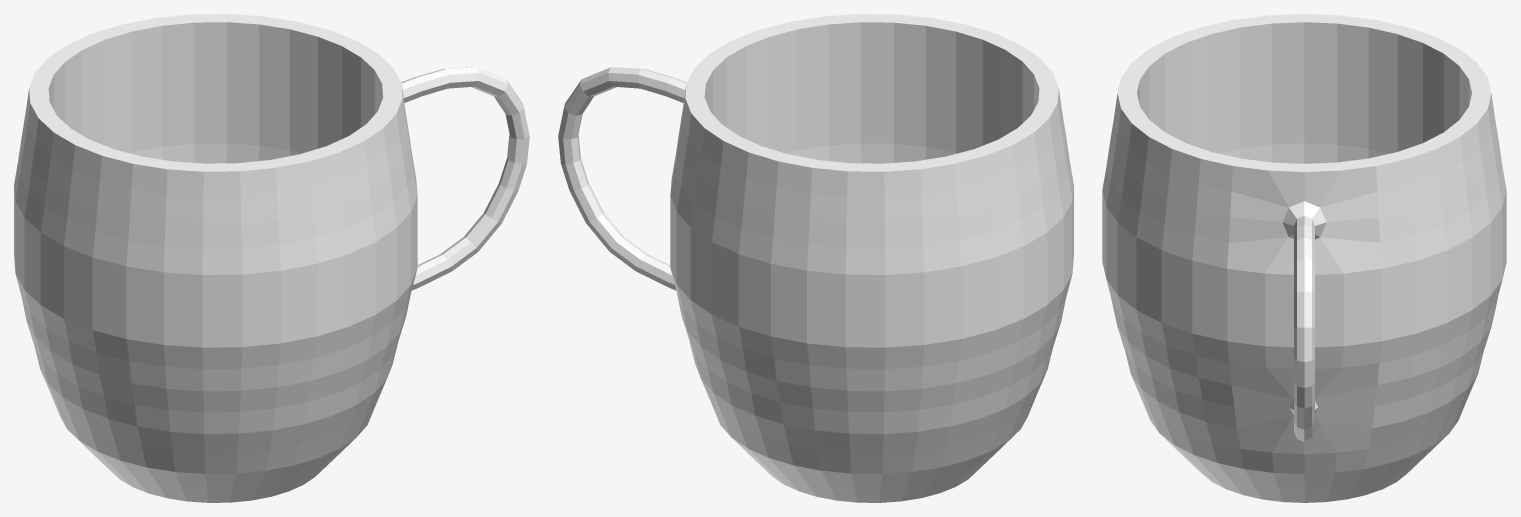
The model's file is Cup.fbx.
3 views of the same model, side by side, from view 1: azimuth 30°, elevation 25°; view 2: azimuth 150°, elevation 25°; view 3: azimuth 270°, elevation 25° (orthographic).
Visible parts, largest first — view 1: Cup; view 2: Cup; view 3: Cup.
Boxes of the visible parts, left/top/right/bottom form: Cup: left=14, top=14, right=529, bottom=502; Cup: left=558, top=14, right=1073, bottom=502; Cup: left=1102, top=14, right=1506, bottom=502.
Size of the model in its own units: 5.09 by 3.65 by 3.62.
